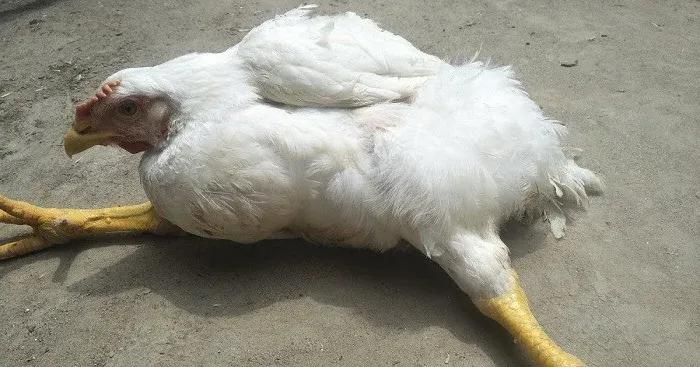AbNormal: (12, 22, 614, 356)
